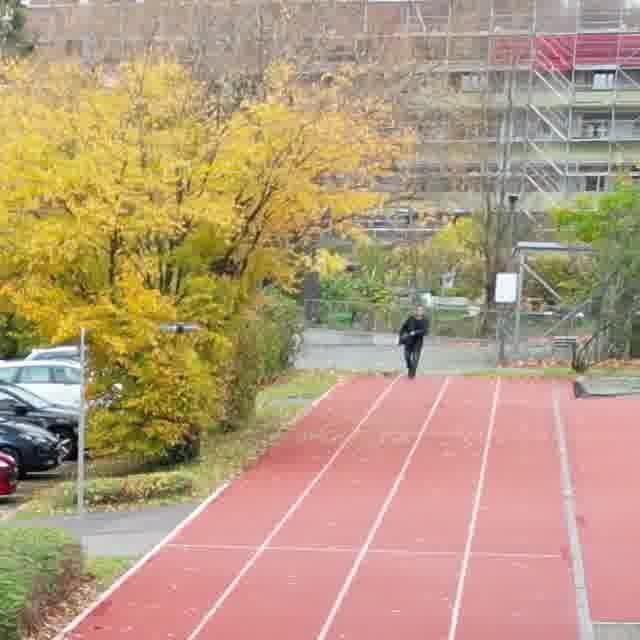Drohne: (162, 323, 201, 334)
